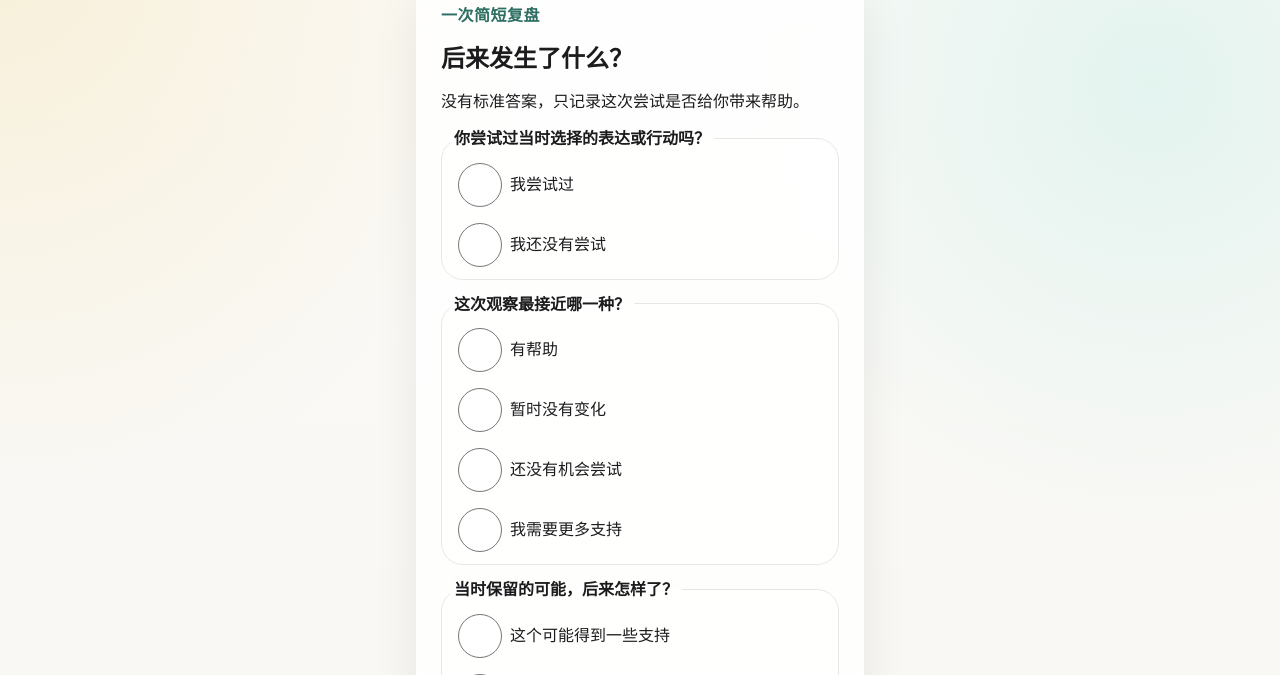
FollowUpPage › submits only one boolean and the three controlled enums without free text
This screenshot has width=1280, height=675.
Click the radio button labelled "我尝试过". click: [480, 185]
box: x1=458 y1=163 x2=502 y2=207
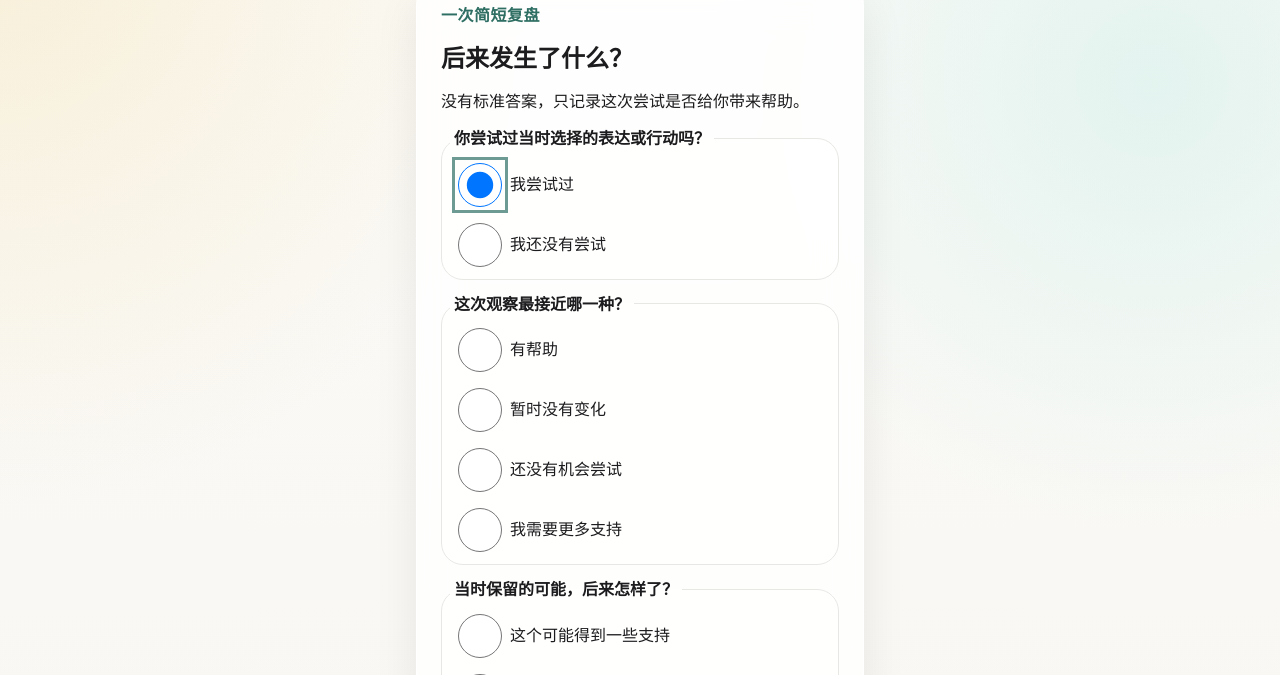
Click the radio button labelled "有帮助". click: [480, 350]
box: x1=458 y1=328 x2=502 y2=372
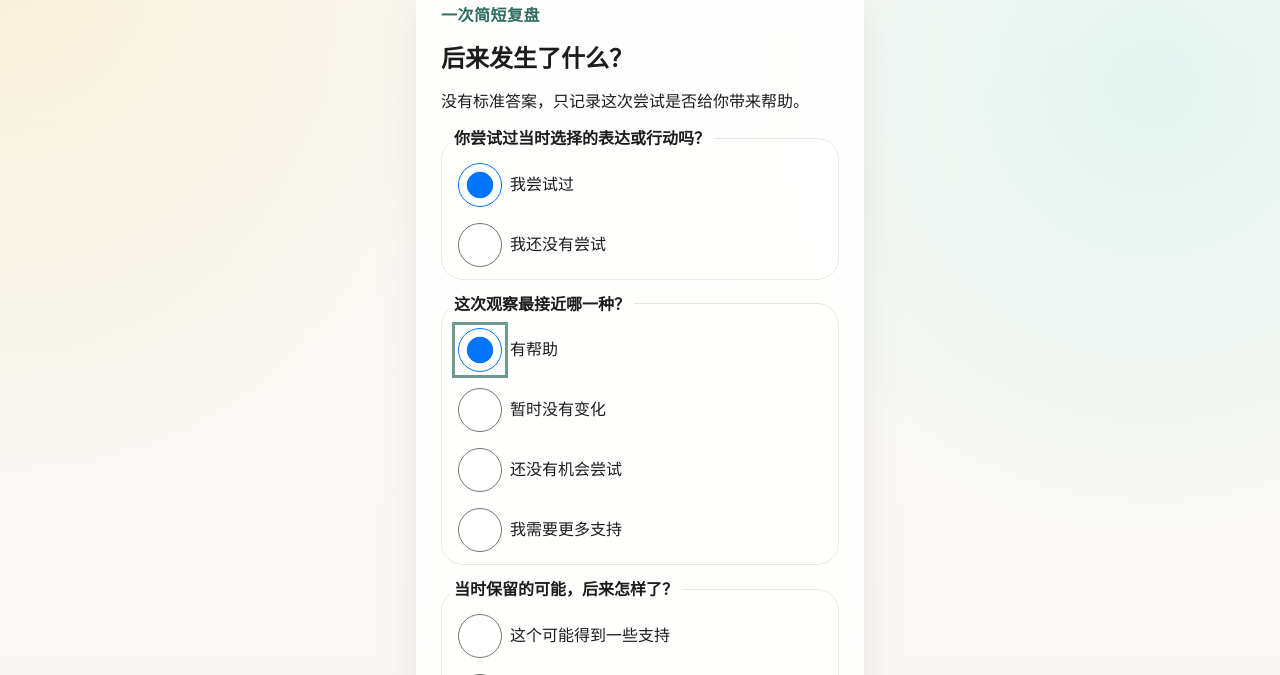
Click the radio button labelled "这个可能得到一些支持". click: [480, 636]
box: x1=458 y1=614 x2=502 y2=658
(page scrolled)
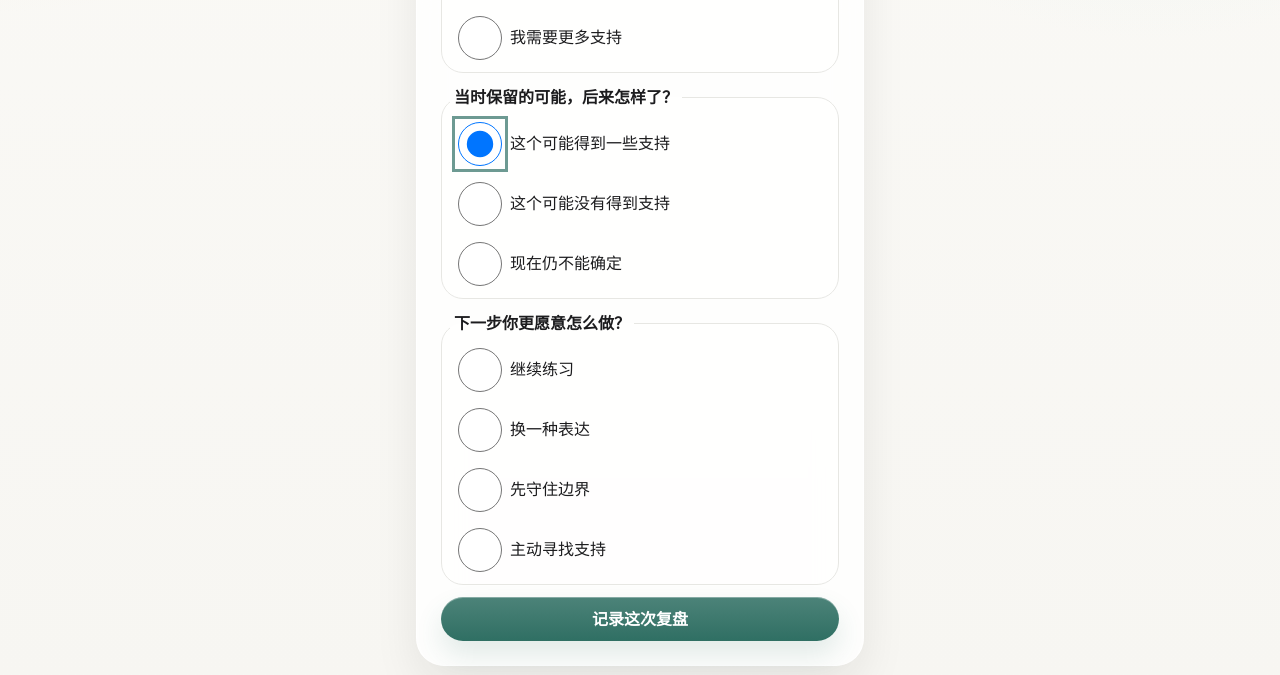
Click the radio button labelled "继续练习". click: [480, 370]
box: x1=458 y1=348 x2=502 y2=392
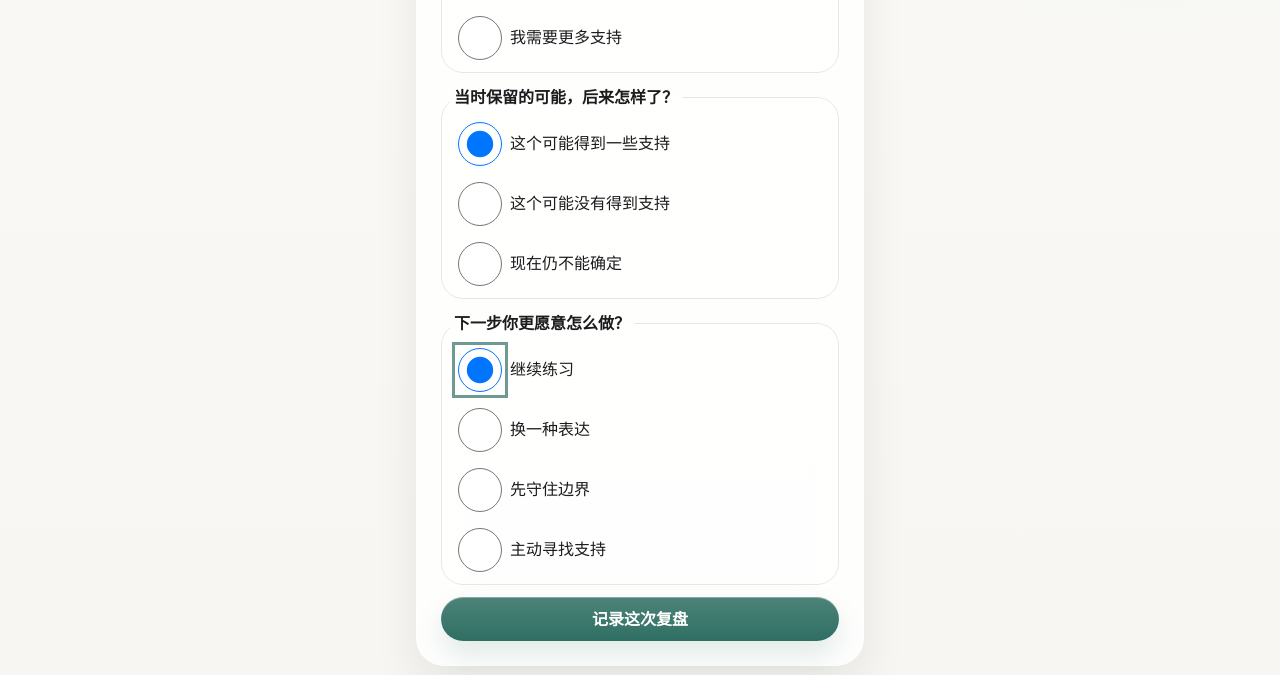
Click the button "记录这次复盘". click: [640, 619]
box: x1=441 y1=597 x2=839 y2=641
(page scrolled)
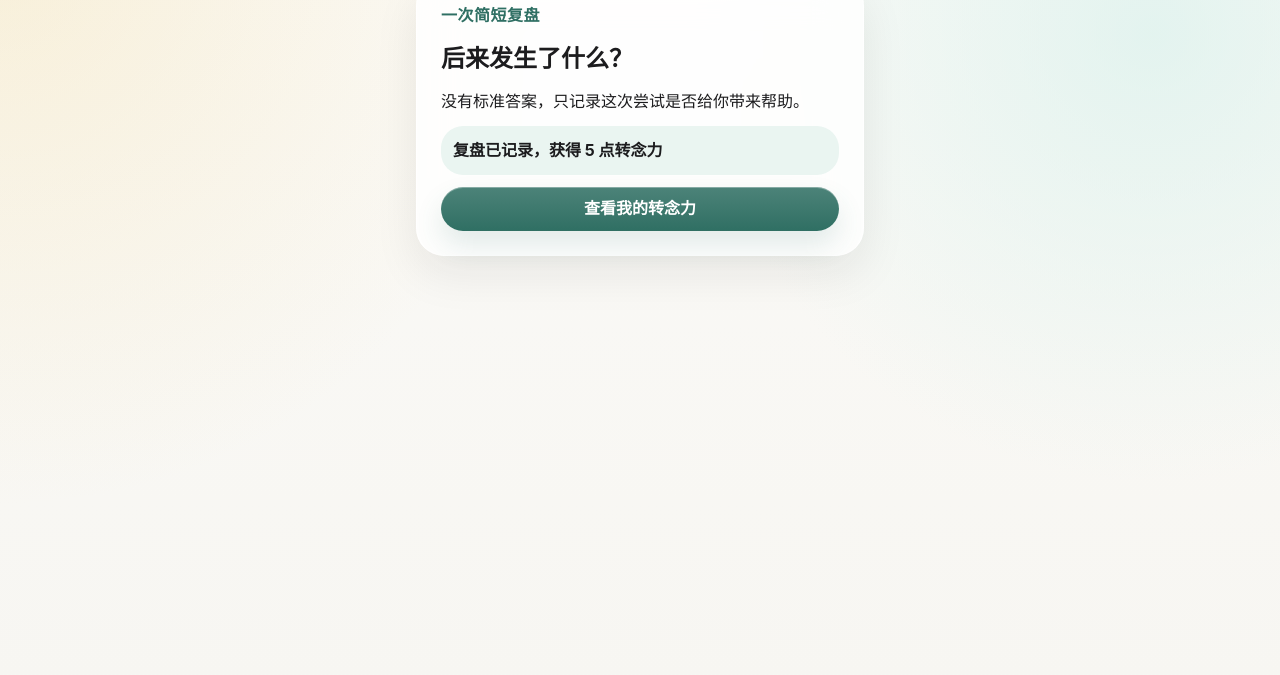
Check: the message reads "复盘已记录，获得 5 点转念力", box x1=453 y1=140 x2=662 y2=160
